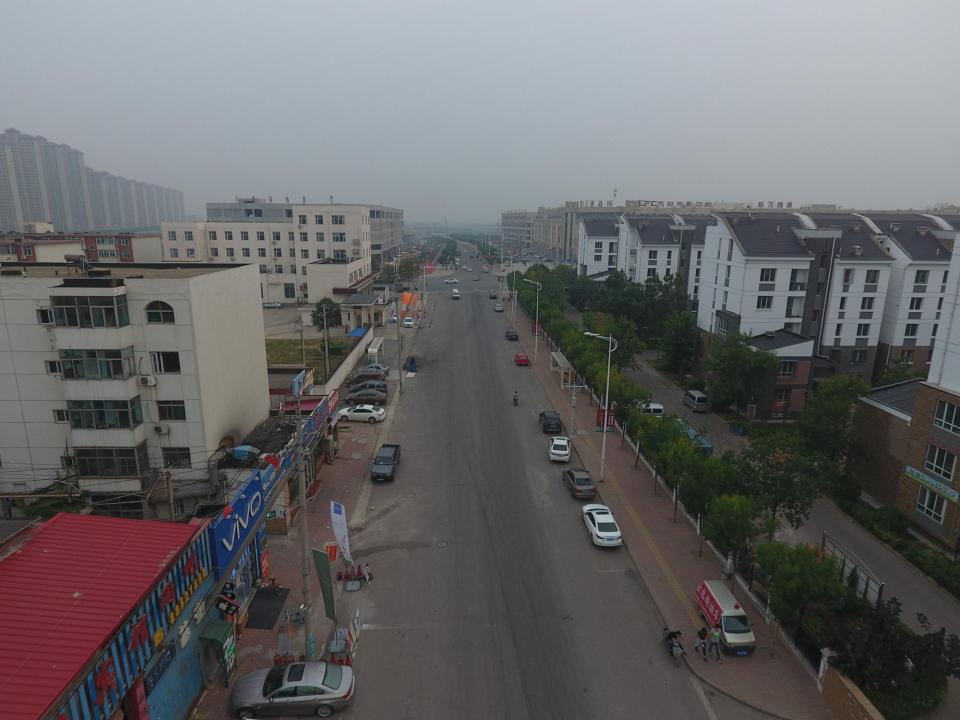car: (229, 662, 354, 718), (583, 501, 622, 547), (564, 467, 595, 500), (335, 404, 387, 422), (344, 388, 385, 405), (349, 379, 388, 395), (548, 436, 570, 461), (540, 409, 562, 432), (358, 362, 389, 375), (514, 352, 529, 364), (506, 328, 516, 341), (452, 286, 460, 300), (403, 318, 413, 326), (392, 314, 400, 322), (488, 291, 494, 297), (495, 304, 502, 309)
truck: (664, 415, 712, 462)
van: (695, 578, 755, 656), (371, 444, 398, 482), (630, 401, 664, 426), (683, 388, 709, 413)
